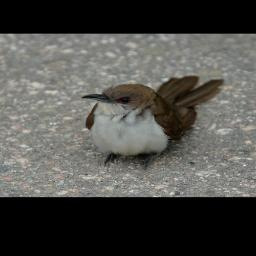Cuckoo: (80, 75, 225, 171)
